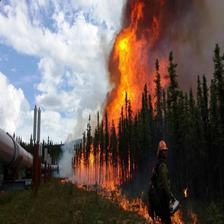fire: (110, 4, 188, 113), (73, 137, 140, 166), (82, 178, 139, 201), (120, 197, 161, 222), (100, 107, 122, 138), (166, 205, 192, 223)
